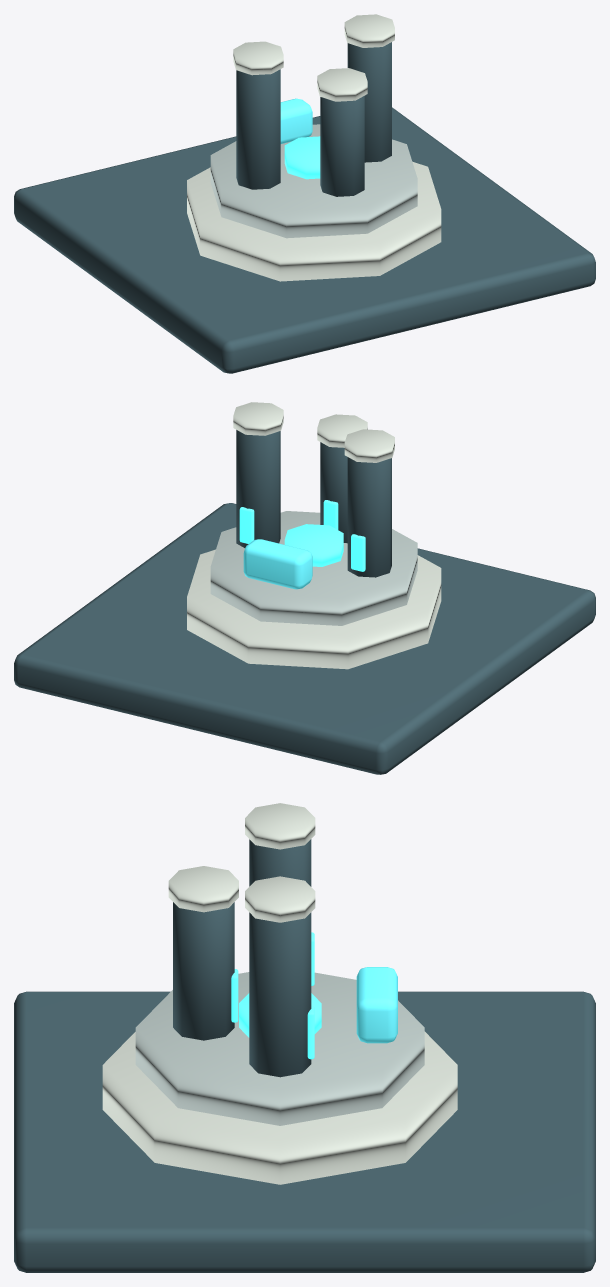
File: skyshield-battery.glb
The picture shows the model from 3 angles, top to bottom: view 1: azimuth 30°, elevation 25°; view 2: azimuth 150°, elevation 25°; view 3: azimuth 270°, elevation 25°; orthographic projection. The views are drawn at different scales.
Visible parts, largest first — view 1: Skyshield pad, Battery turret race, Armored rotating platform, Interceptor canister, Interceptor canister.002, Interceptor canister.001, Canister cap, Canister cap.002, Canister cap.001, Battery pivot hub, Skyshield radar optic; view 2: Skyshield pad, Battery turret race, Armored rotating platform, Interceptor canister, Interceptor canister.001, Skyshield radar optic, Interceptor canister.002, Battery pivot hub, Canister cap, Canister cap.001, Canister cap.002, Canister team stripe.001 (+1 smaller); view 3: Skyshield pad, Battery turret race, Armored rotating platform, Interceptor canister.001, Interceptor canister.002, Skyshield radar optic, Canister cap.001, Canister cap, Canister cap.002, Interceptor canister, Battery pivot hub.
Boxes of the visible parts, box(x1,y1,x2,y2) form: Skyshield pad: box(14, 107, 595, 373); Battery turret race: box(187, 161, 441, 281); Armored rotating platform: box(210, 124, 417, 238); Interceptor canister: box(236, 69, 280, 189); Interceptor canister.002: box(320, 96, 364, 196); Interceptor canister.001: box(347, 42, 391, 162); Canister cap: box(233, 41, 283, 75); Canister cap.002: box(317, 68, 367, 101); Canister cap.001: box(344, 14, 394, 47); Battery pivot hub: box(284, 136, 320, 179); Skyshield radar optic: box(280, 98, 312, 143); Skyshield pad: box(14, 503, 595, 774); Battery turret race: box(187, 549, 441, 669); Armored rotating platform: box(210, 511, 417, 625); Interceptor canister: box(347, 457, 391, 577); Interceptor canister.001: box(236, 430, 280, 547); Skyshield radar optic: box(243, 539, 312, 589); Interceptor canister.002: box(320, 442, 347, 543); Battery pivot hub: box(284, 524, 343, 566); Canister cap: box(344, 429, 394, 462); Canister cap.001: box(233, 402, 283, 435); Canister cap.002: box(317, 414, 367, 447); Canister team stripe.001: box(239, 507, 254, 543); Skyshield pad: box(14, 991, 595, 1272); Battery turret race: box(102, 1031, 457, 1184); Armored rotating platform: box(135, 972, 424, 1125); Interceptor canister.001: box(249, 912, 311, 1077); Interceptor canister.002: box(173, 902, 234, 1040); Skyshield radar optic: box(356, 967, 397, 1043); Canister cap.001: box(245, 876, 315, 922); Canister cap: box(245, 803, 315, 849); Canister cap.002: box(168, 866, 238, 912); Interceptor canister: box(249, 839, 311, 886); Battery pivot hub: box(239, 993, 321, 1037).
Bounding box in the file's own units: 2.82 × 1.6 × 2.82.
